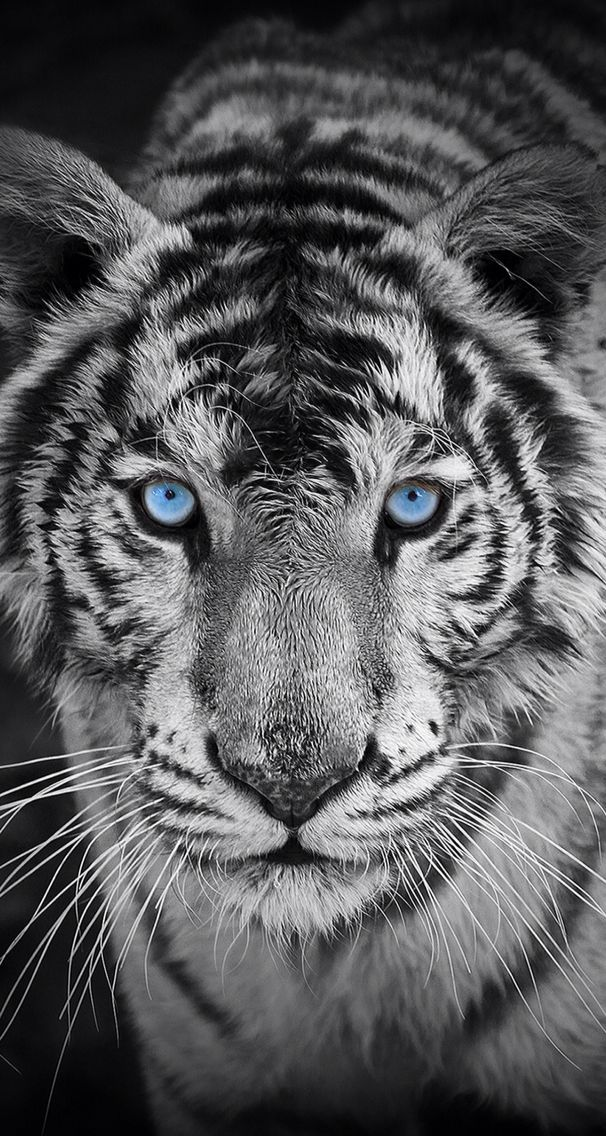Tigrew: (30, 25, 584, 1068)
